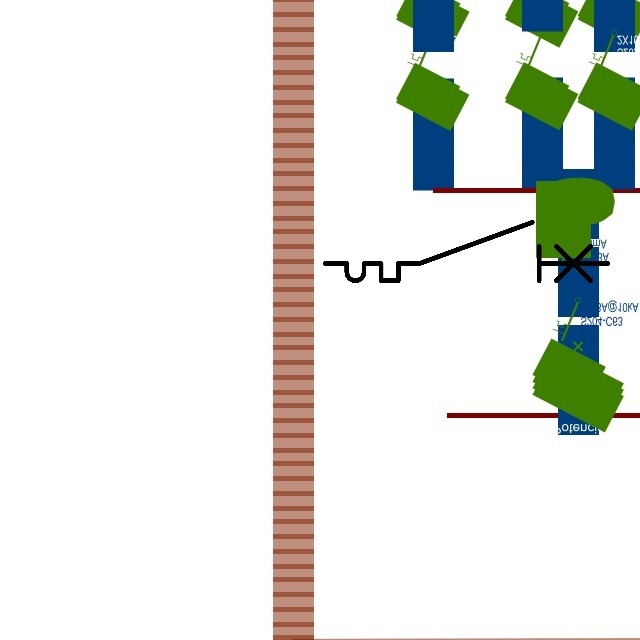interruptor_termomagnetico: (318, 215, 615, 288)
